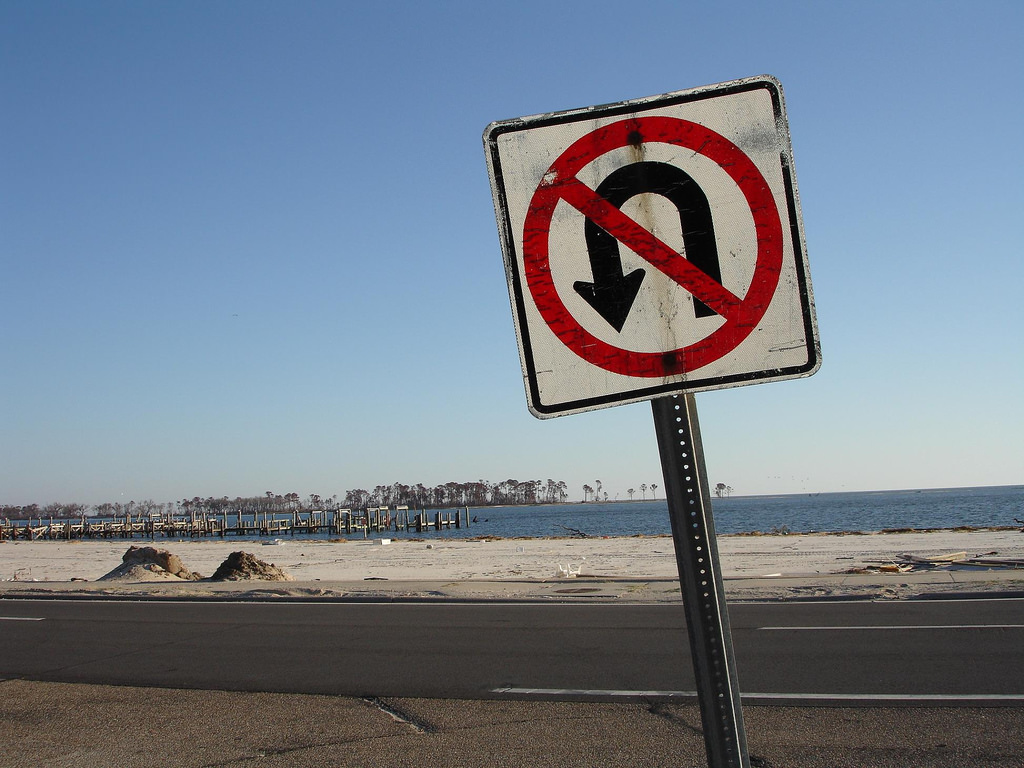No_u_turn: (521, 116, 785, 376)
